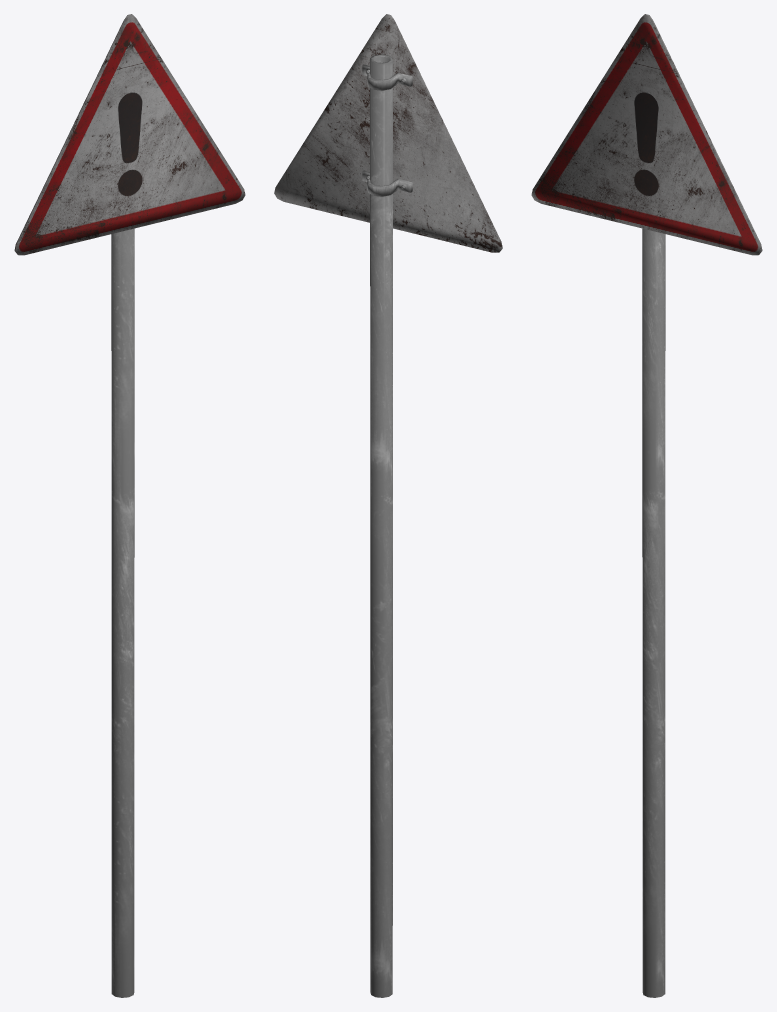
Rendered from warning.glb.
3 views of the same model, side by side, from view 1: azimuth 30°, elevation 25°; view 2: azimuth 150°, elevation 25°; view 3: azimuth 330°, elevation 25° (orthographic).
Parts seen in each view (by area): view 1: warning_mesh; view 2: warning_mesh; view 3: warning_mesh.
Part boxes in pixels (<box>): warning_mesh: <box>14,14,245,997</box>; warning_mesh: <box>274,14,502,997</box>; warning_mesh: <box>531,14,762,997</box>.
Size of the model in its own units: 1.49 by 6.07 by 0.1666.
Materials: 4 (4 with a texture image).
